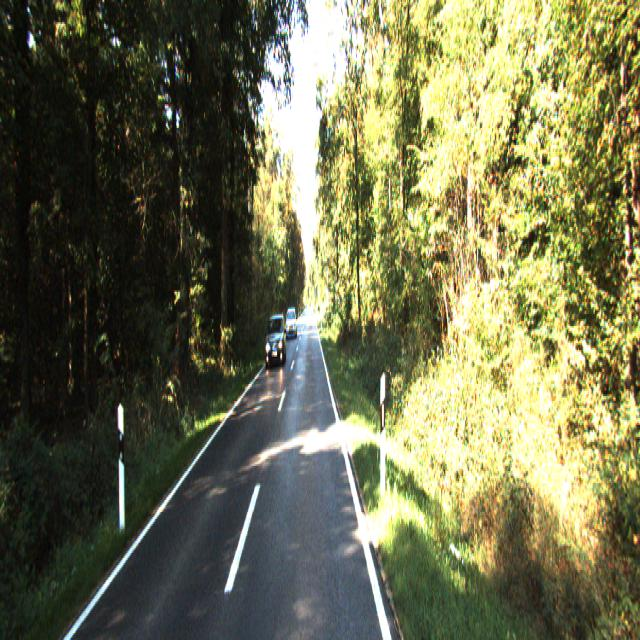Car: (264, 312, 287, 370), (285, 309, 297, 340)
